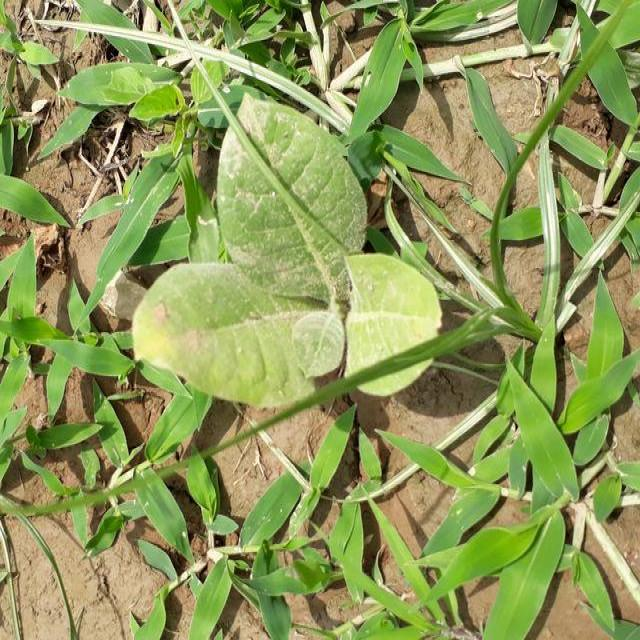crop: (146, 78, 433, 390)
